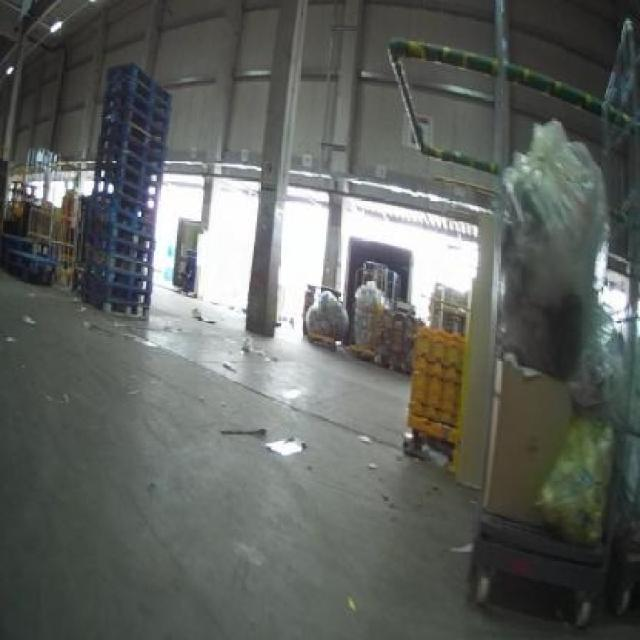floor: (0, 270, 637, 637), (217, 425, 306, 455)
pallets: (80, 62, 168, 314), (402, 326, 463, 466)
